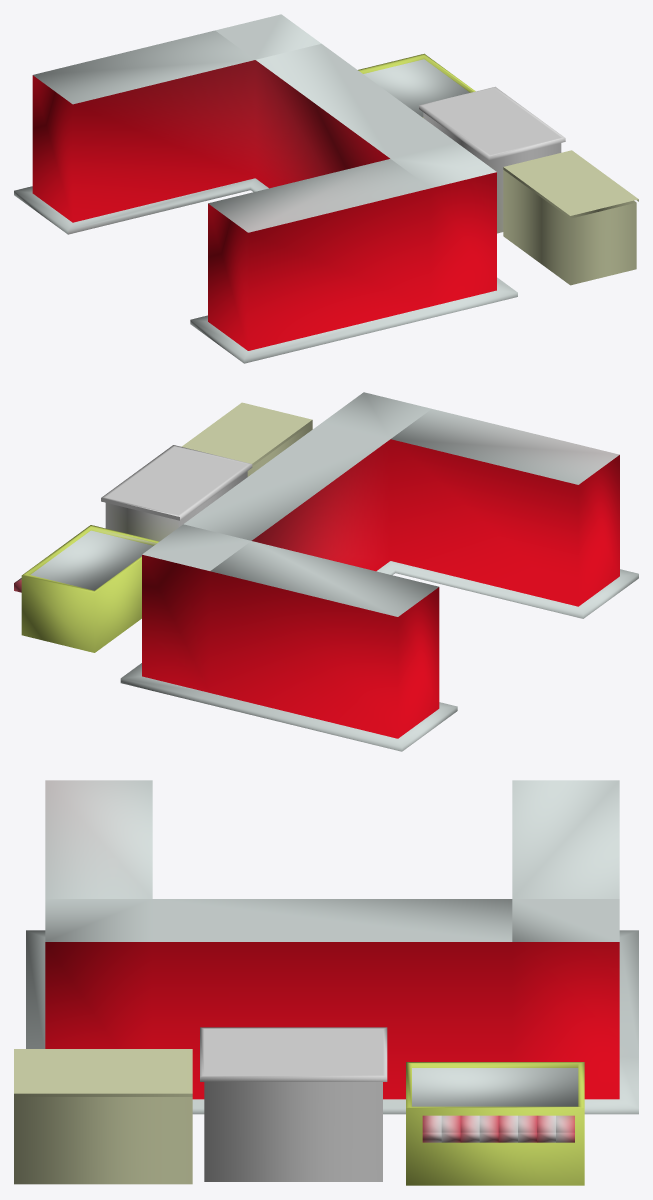
File: block1.fbx
3 renders of one model, top to bottom at view 1: azimuth 30°, elevation 25°; view 2: azimuth 150°, elevation 25°; view 3: azimuth 270°, elevation 25°, orthographic. The views are drawn at different scales.
Visible parts, largest first — view 1: Cube_001.001, Cube_001.002, Cube_001.000; view 2: Cube_001.001, Cube_001.000, Cube_001.002; view 3: Cube_001.001, Cube_001.002, Cube_001.000.
Boxes of the visible parts, left/top/right/bottom form: Cube_001.001: left=14, top=14, right=638, bottom=363; Cube_001.002: left=419, top=86, right=565, bottom=233; Cube_001.000: left=358, top=53, right=475, bottom=117; Cube_001.001: left=120, top=392, right=638, bottom=751; Cube_001.000: left=14, top=525, right=158, bottom=652; Cube_001.002: left=101, top=445, right=252, bottom=541; Cube_001.001: left=14, top=780, right=638, bottom=1184; Cube_001.002: left=200, top=1027, right=387, bottom=1181; Cube_001.000: left=406, top=1062, right=584, bottom=1185.
Bounding box in the file's own units: 7.77 × 2.27 × 7.88.
